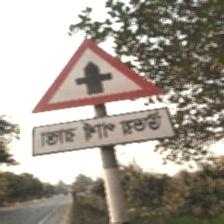Crossroad: (31, 37, 172, 158)
